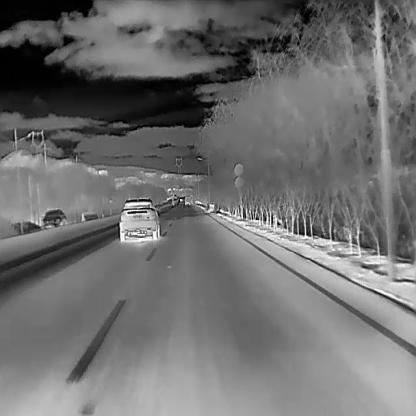bus: (184, 195, 191, 206), (173, 193, 177, 198)
car: (118, 196, 160, 244), (42, 207, 68, 230), (178, 197, 182, 204)
